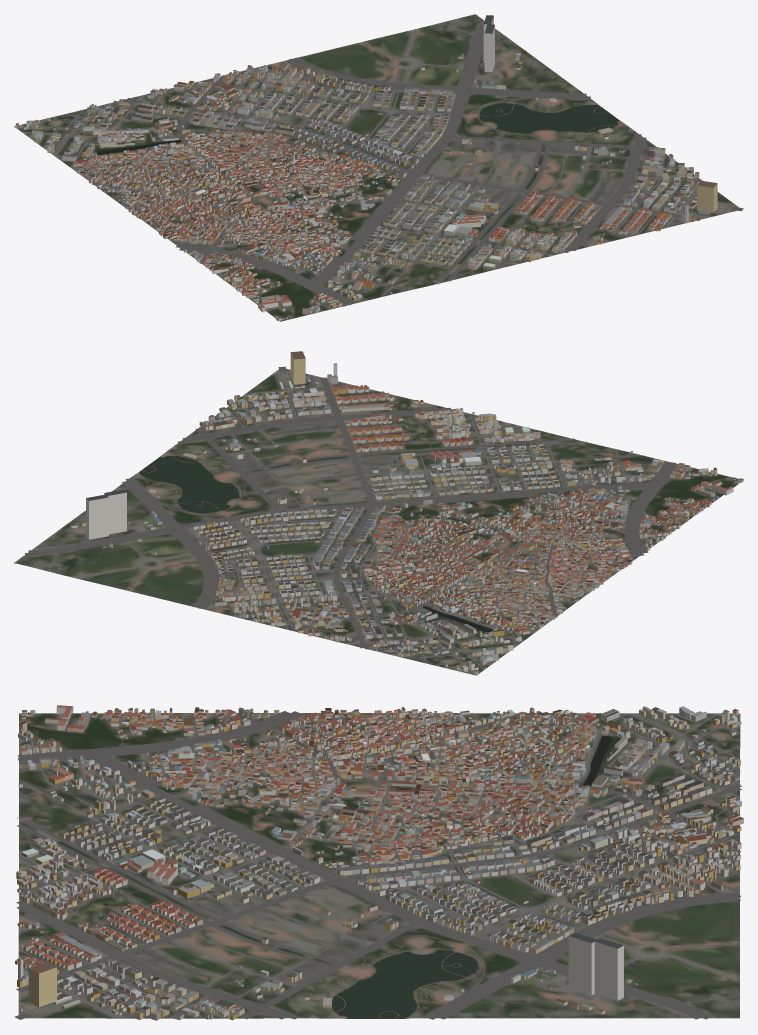
3 renders of one model, top to bottom at view 1: azimuth 30°, elevation 25°; view 2: azimuth 150°, elevation 25°; view 3: azimuth 270°, elevation 25°, orthographic. The views are drawn at different scales.
Visible parts, largest first — view 1: buildings, ground, roads, water; view 2: buildings, ground, roads, water; view 3: buildings, ground, roads, water.
Part boxes in pixels (bbox=[...]): buildings: bbox=[15, 15, 730, 321]; ground: bbox=[14, 14, 738, 321]; roads: bbox=[19, 22, 743, 314]; water: bbox=[96, 103, 619, 228]; buildings: bbox=[70, 351, 743, 674]; ground: bbox=[14, 369, 740, 675]; roads: bbox=[25, 366, 710, 675]; water: bbox=[139, 432, 492, 631]; buildings: bbox=[15, 705, 743, 1020]; ground: bbox=[18, 713, 740, 1018]; roads: bbox=[14, 711, 741, 1019]; water: bbox=[103, 736, 612, 1018].
Bounding box in the file's own units: 1423 × 115 × 1419.
